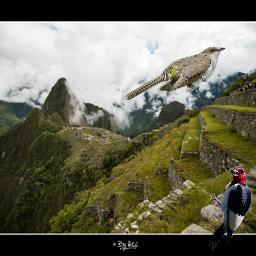Cuckoo: (124, 46, 225, 100)
Woodpecker: (206, 162, 252, 252)
